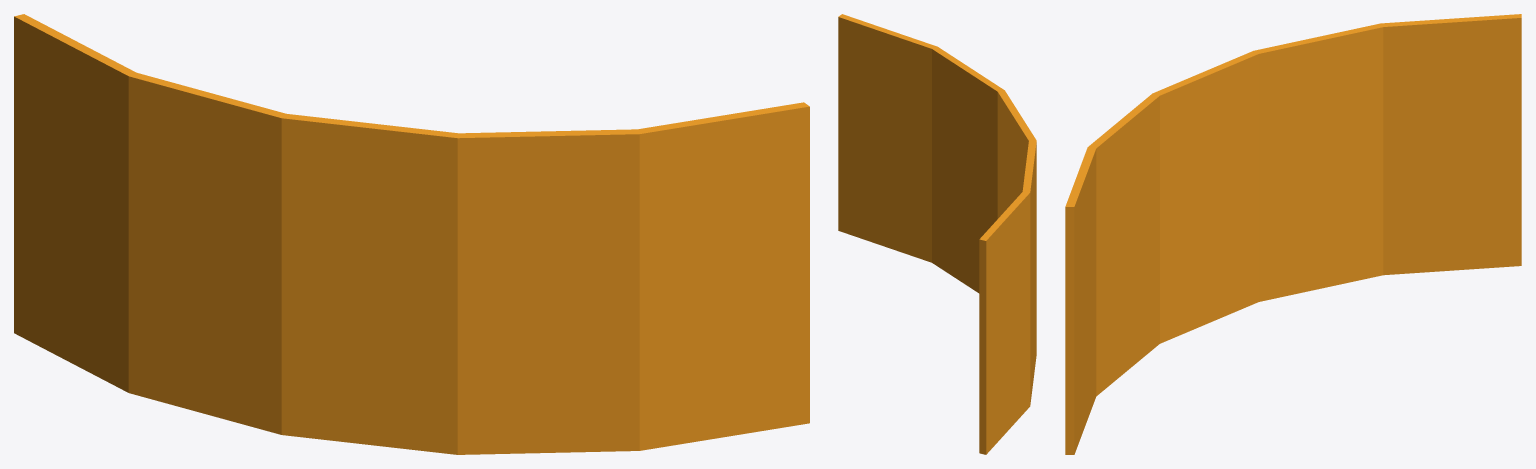
File: SM_Buildings_WallCurved_5x5_01.fbx
The picture shows the model from 3 angles, left to right: view 1: azimuth 30°, elevation 25°; view 2: azimuth 150°, elevation 25°; view 3: azimuth 270°, elevation 25°; orthographic projection. The views are drawn at different scales.
Parts seen in each view (by area): view 1: SM_Buildings_WallCurved_5x5_01; view 2: SM_Buildings_WallCurved_5x5_01; view 3: SM_Buildings_WallCurved_5x5_01.
Part boxes in pixels (x1,y1,x2,y2): SM_Buildings_WallCurved_5x5_01: (14,14,809,454); SM_Buildings_WallCurved_5x5_01: (838,14,1036,454); SM_Buildings_WallCurved_5x5_01: (1065,14,1521,454).
Bounding box in the file's own units: 500 × 300 × 500.
